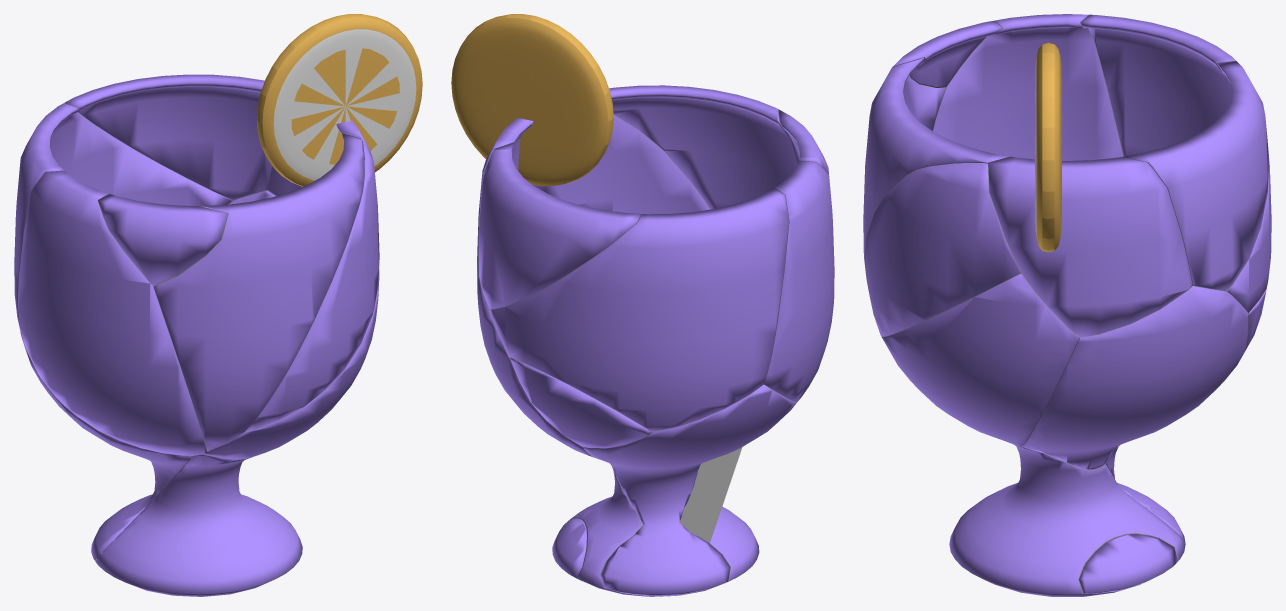
The model's file is Lemonade_Fractured.fbx.
3 views of the same model, side by side, from view 1: azimuth 30°, elevation 25°; view 2: azimuth 150°, elevation 25°; view 3: azimuth 270°, elevation 25° (orthographic). The views are drawn at different scales.
Parts seen in each view (by area): view 1: Lemonade_Glass_cell.003, Lemonade_Glass_cell.005, Lemon, Lemonade_Glass_cell.007, Lemonade_Glass_cell.004, Lemonade_Glass_cell.001, Lemonade_Glass_cell.012, Lemonade_Glass_cell.011, Lemonade_Glass_cell.010, Lemonade_Glass_cell.013, Lemonade_Glass_cell.002; view 2: Lemonade_Glass_cell.001, Lemon, Lemonade_Glass_cell.013, Lemonade_Glass_cell.005, Lemonade_Glass_cell.004, Lemonade_Glass_cell.003, Lemonade_Glass_cell.007, Lemonade_Glass_cell.012, Lemonade_Glass_cell, Lemonade_Glass_cell.006, Lemonade_Glass_cell.011, Lemonade_Glass_cell.002; view 3: Lemonade_Glass_cell.006, Lemonade_Glass_cell.002, Lemonade_Glass_cell.010, Lemonade_Glass_cell.007, Lemonade_Glass_cell.012, Lemonade_Glass_cell.003, Lemonade_Glass_cell.001, Lemonade_Glass_cell.004, Lemonade_Glass_cell.005, Lemon, Lemonade_Glass_cell.011, Lemonade_Glass_cell.013.
Part boxes in pixels (x1=…): Lemonade_Glass_cell.003: x1=18, y1=170, x2=206, y2=455; Lemonade_Glass_cell.005: x1=153, y1=133, x2=364, y2=451; Lemon: x1=257, y1=14, x2=422, y2=186; Lemonade_Glass_cell.007: x1=95, y1=454, x2=302, y2=596; Lemonade_Glass_cell.004: x1=64, y1=74, x2=271, y2=200; Lemonade_Glass_cell.001: x1=14, y1=103, x2=232, y2=331; Lemonade_Glass_cell.012: x1=244, y1=140, x2=379, y2=432; Lemonade_Glass_cell.011: x1=98, y1=193, x2=227, y2=285; Lemonade_Glass_cell.010: x1=205, y1=257, x2=379, y2=459; Lemonade_Glass_cell.013: x1=20, y1=331, x2=193, y2=560; Lemonade_Glass_cell.002: x1=267, y1=120, x2=372, y2=195; Lemonade_Glass_cell.001: x1=490, y1=188, x2=788, y2=431; Lemon: x1=451, y1=14, x2=613, y2=186; Lemonade_Glass_cell.013: x1=583, y1=384, x2=796, y2=596; Lemonade_Glass_cell.005: x1=609, y1=85, x2=799, y2=209; Lemonade_Glass_cell.004: x1=478, y1=142, x2=640, y2=309; Lemonade_Glass_cell.003: x1=764, y1=160, x2=834, y2=402; Lemonade_Glass_cell.007: x1=567, y1=447, x2=759, y2=596; Lemonade_Glass_cell.012: x1=533, y1=115, x2=709, y2=214; Lemonade_Glass_cell: x1=510, y1=357, x2=651, y2=448; Lemonade_Glass_cell.006: x1=477, y1=274, x2=616, y2=577; Lemonade_Glass_cell.011: x1=778, y1=109, x2=829, y2=179; Lemonade_Glass_cell.002: x1=477, y1=118, x2=533, y2=274; Lemonade_Glass_cell.006: x1=1021, y1=285, x2=1248, y2=593; Lemonade_Glass_cell.002: x1=988, y1=156, x2=1192, y2=337; Lemonade_Glass_cell.010: x1=882, y1=273, x2=1079, y2=446; Lemonade_Glass_cell.007: x1=949, y1=444, x2=1185, y2=596; Lemonade_Glass_cell.012: x1=864, y1=163, x2=1020, y2=336; Lemonade_Glass_cell.003: x1=933, y1=14, x2=1123, y2=160; Lemonade_Glass_cell.001: x1=1080, y1=14, x2=1271, y2=312; Lemonade_Glass_cell.004: x1=1123, y1=61, x2=1268, y2=290; Lemonade_Glass_cell.005: x1=863, y1=57, x2=1009, y2=270; Lemon: x1=1035, y1=42, x2=1061, y2=252; Lemonade_Glass_cell.011: x1=893, y1=20, x2=1002, y2=87; Lemonade_Glass_cell.013: x1=1105, y1=447, x2=1185, y2=543.
Size of the model in its own units: 199 by 263 by 169.
